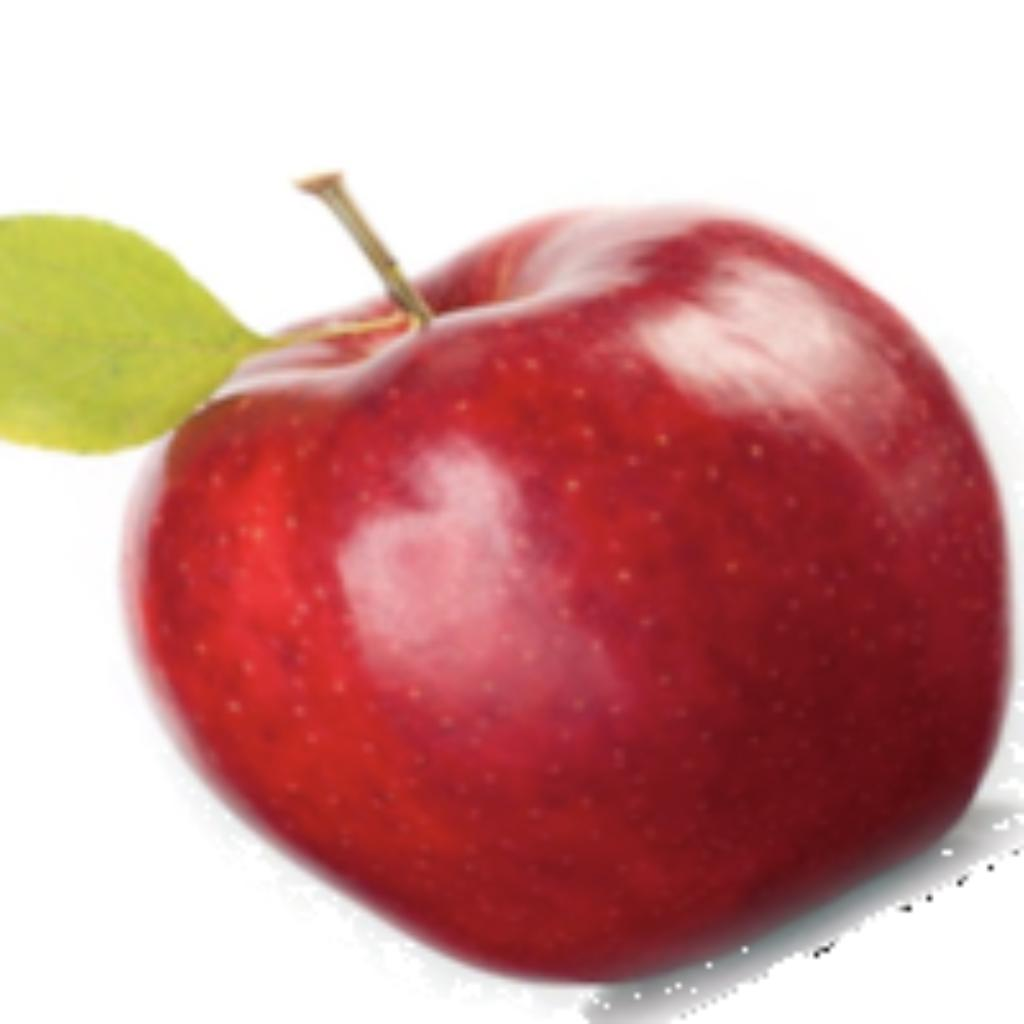apple: (0, 164, 1019, 1019)
